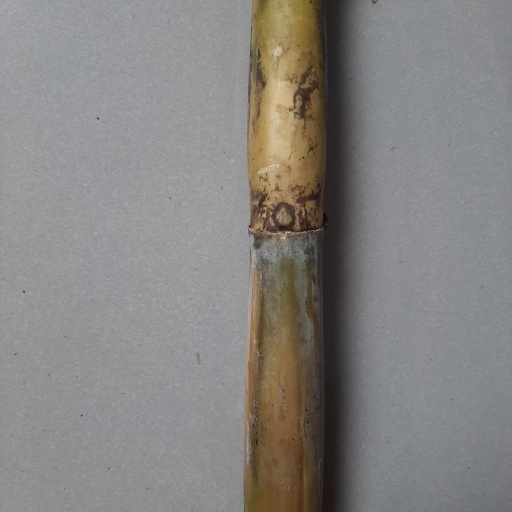Bud: (274, 203, 295, 231)
